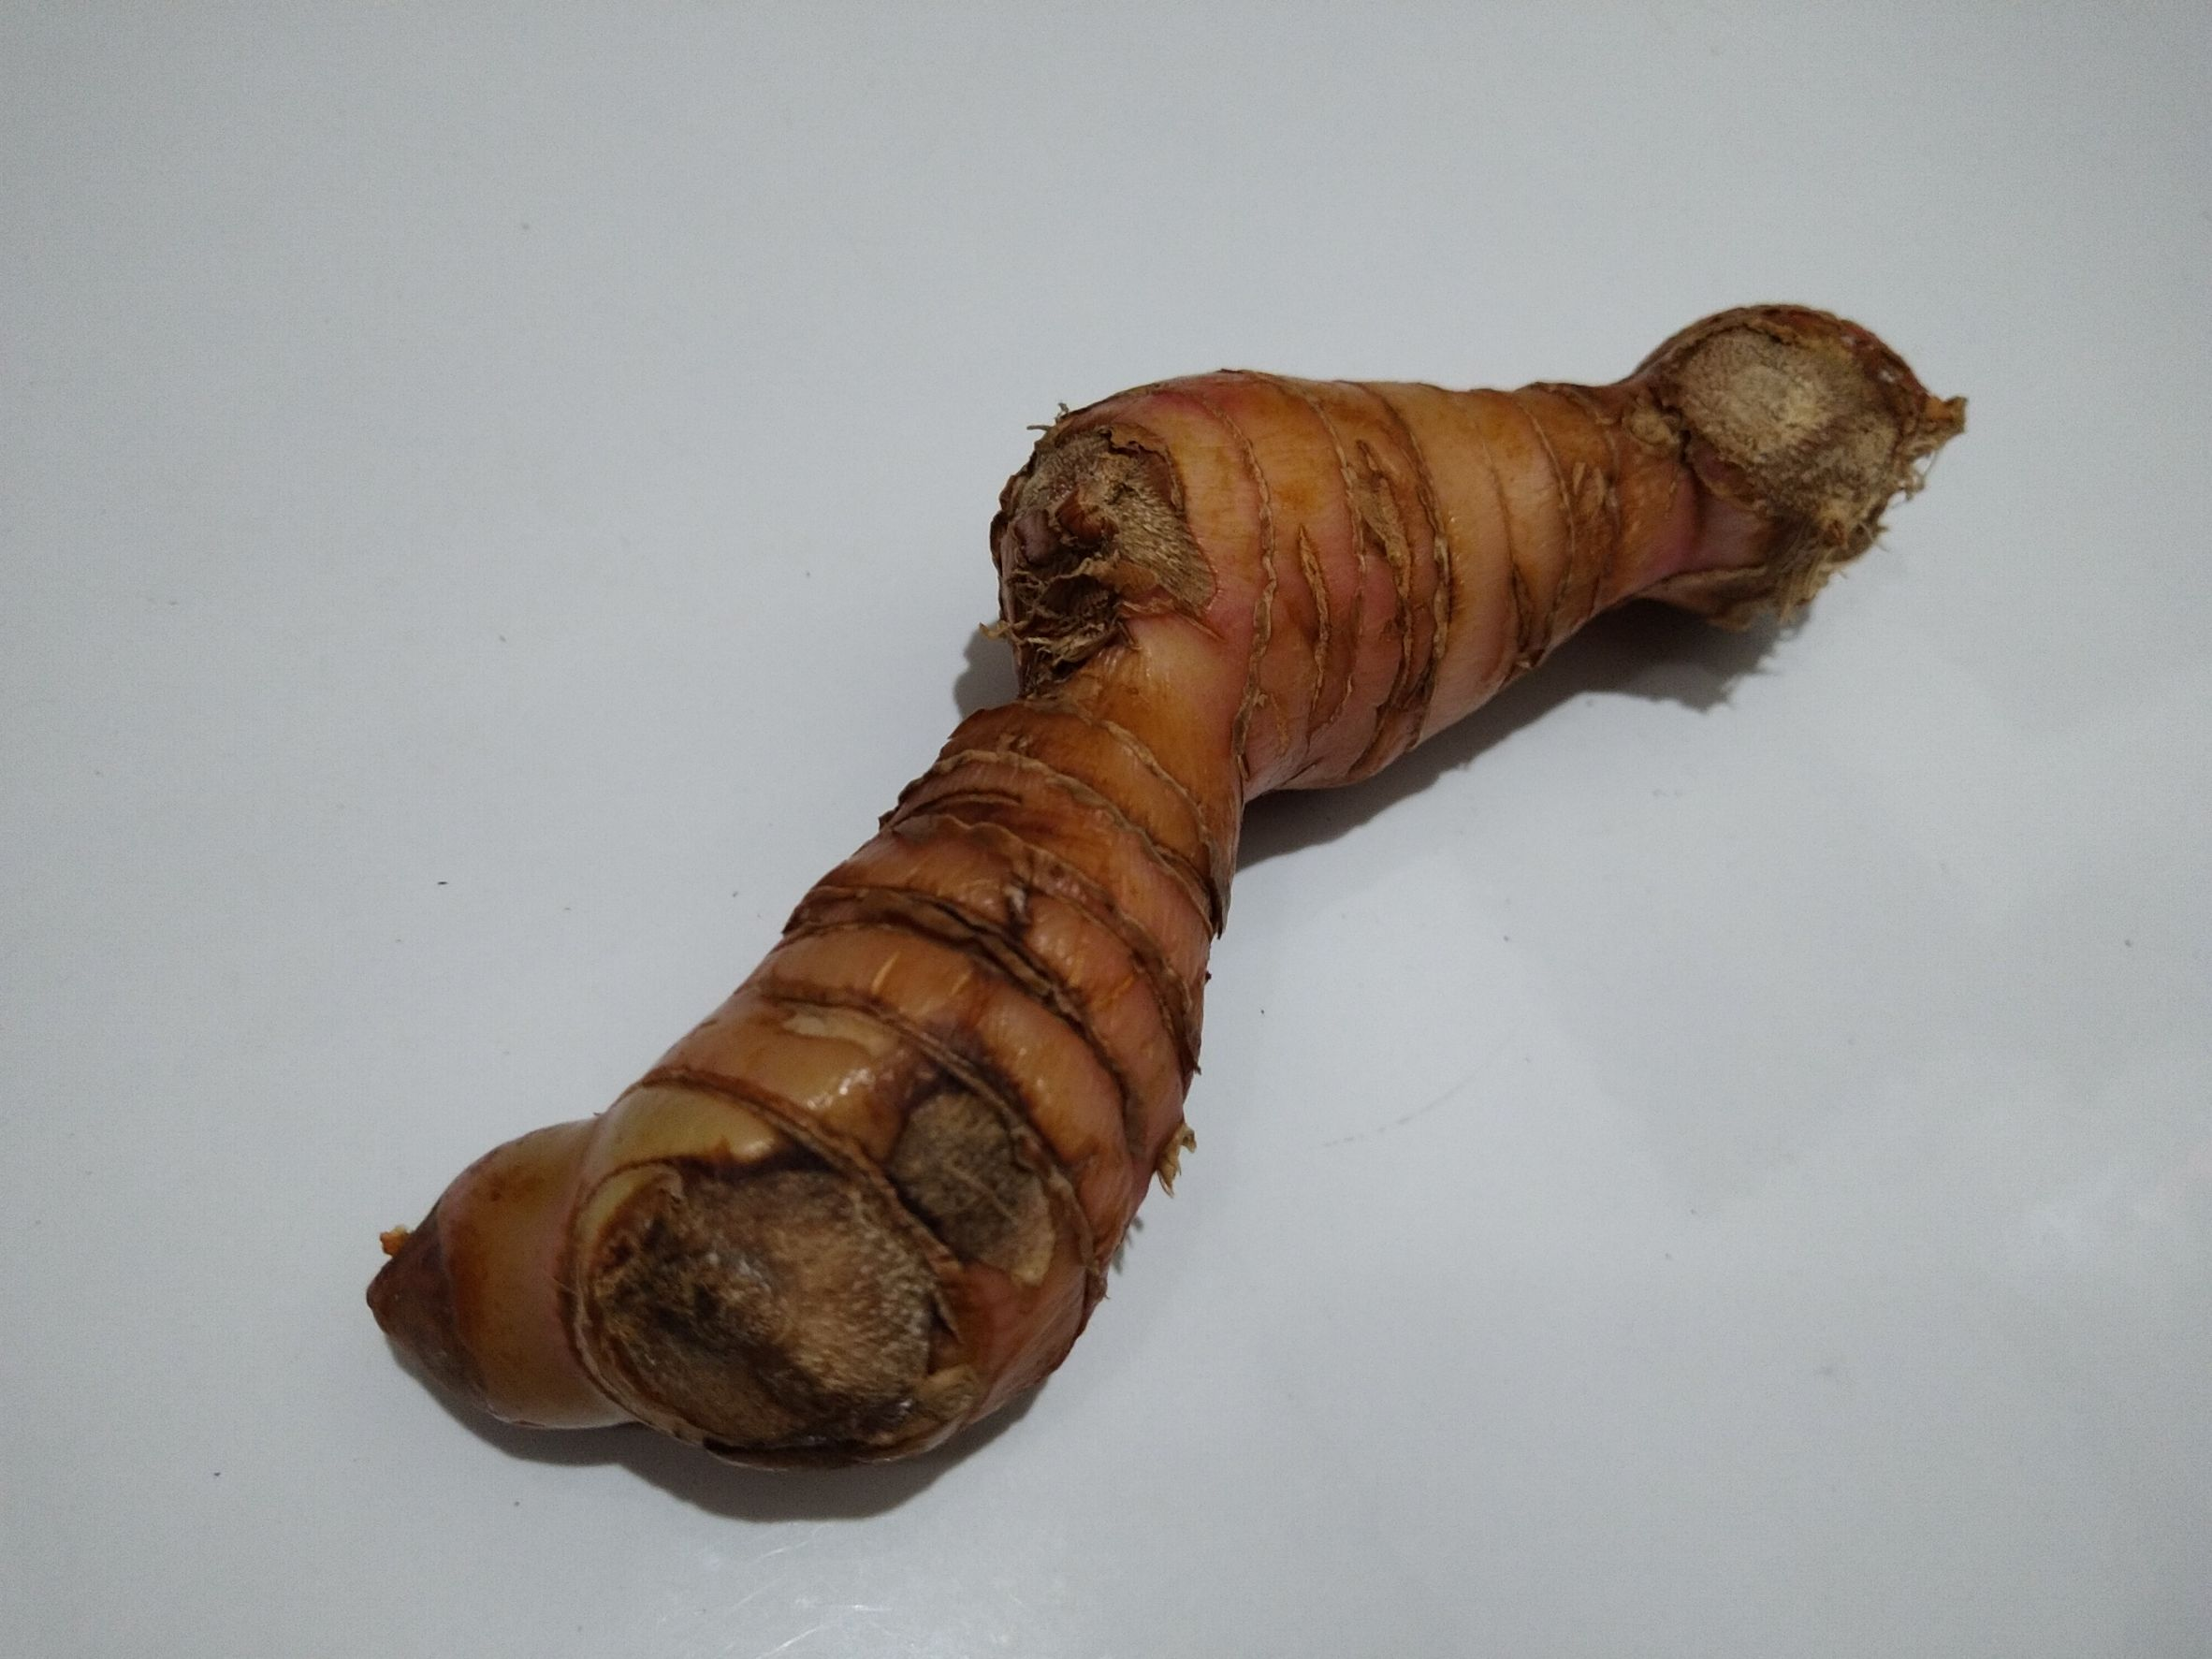Lengkuas: (338, 310, 1956, 1521)
